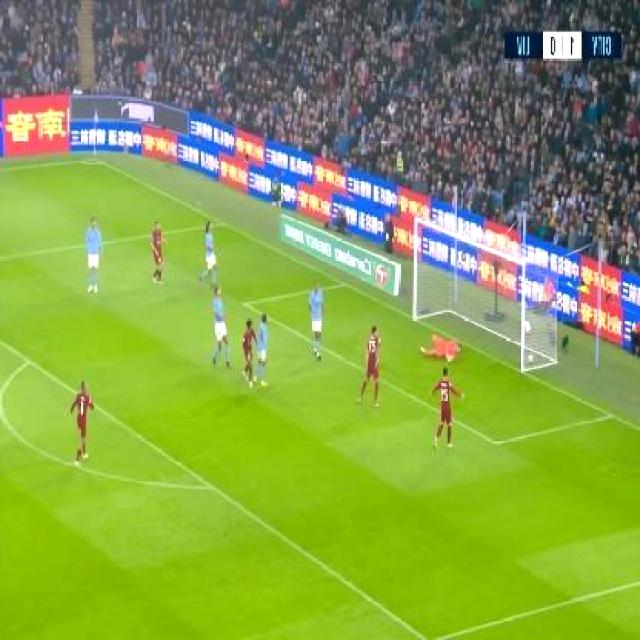bigarea_top_outter: (218, 216, 231, 230)
bottom_arc_area_intersection: (204, 474, 222, 497)
corner: (88, 152, 101, 163)
smallarea_bottom_inner: (489, 429, 508, 457)
smallarea_bottom_outter: (604, 403, 622, 425)
smallarea_top_inner: (240, 297, 252, 312)
smallarea_top_outter: (340, 274, 352, 289)
top_arc_area_intersection: (23, 351, 35, 369)
